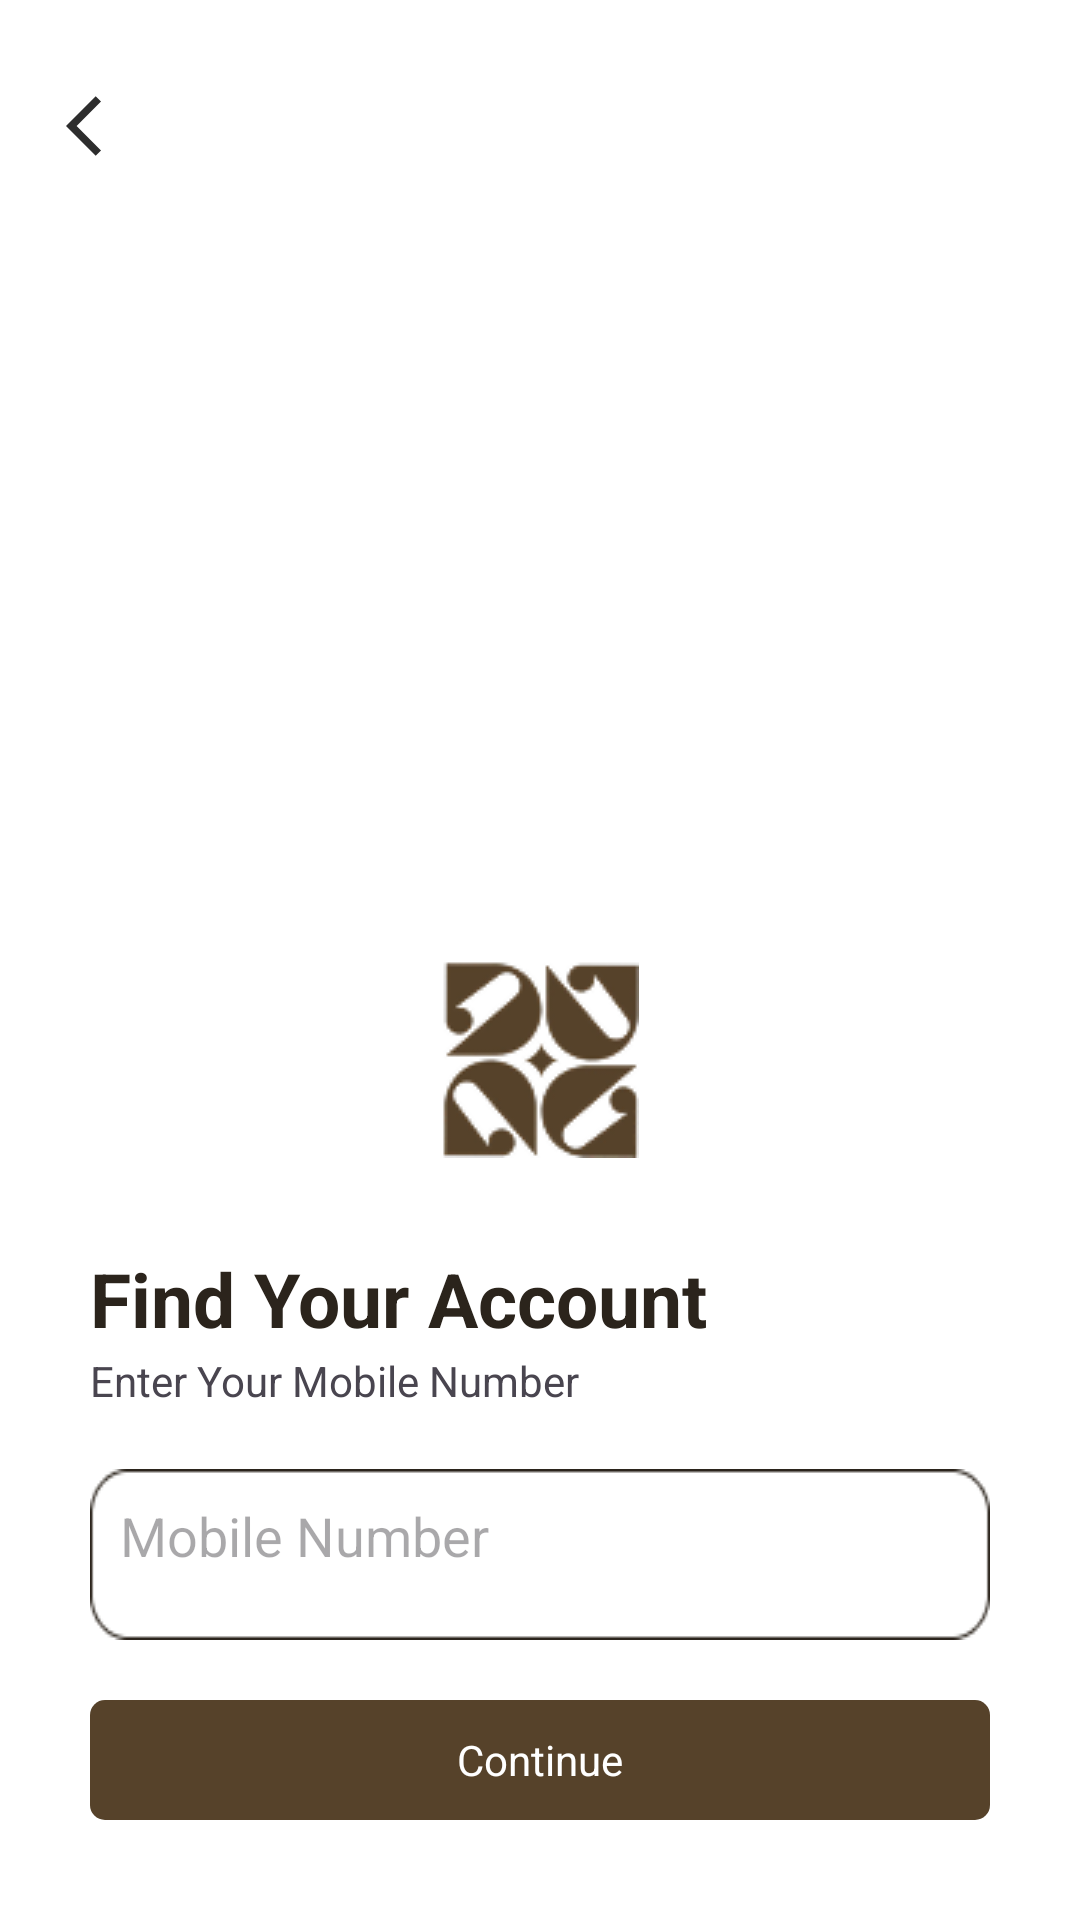

Icons on this 1080*1920 Android screen, each with the point to tap as point (x, y):
back arrow: point (83, 126)
